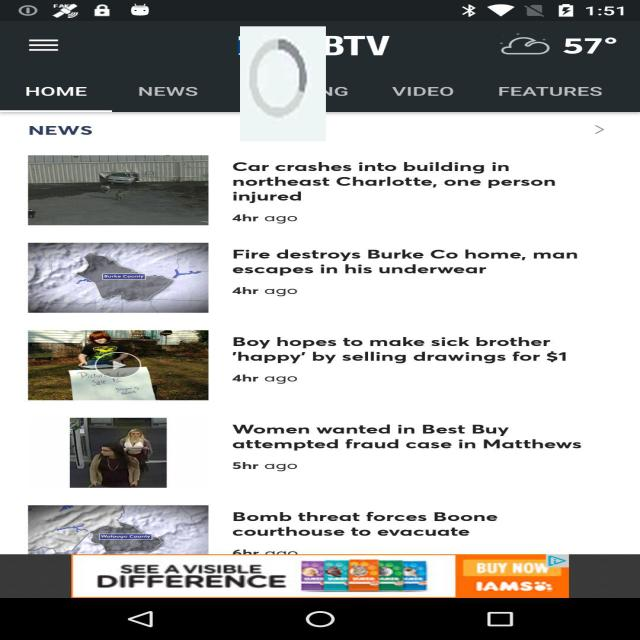misdirection: (240, 27, 326, 142)
